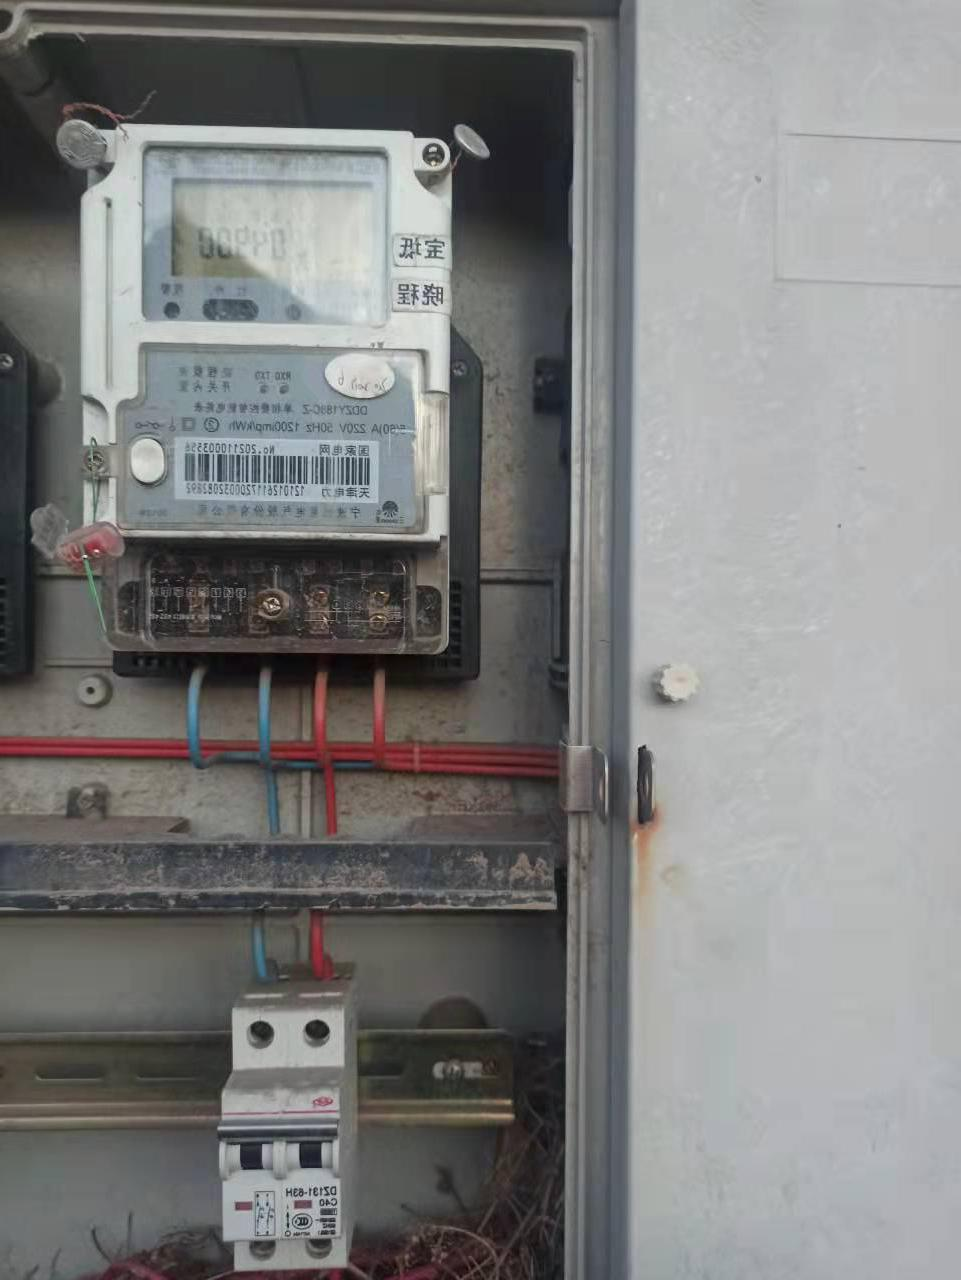digital: (86, 124, 447, 538)
